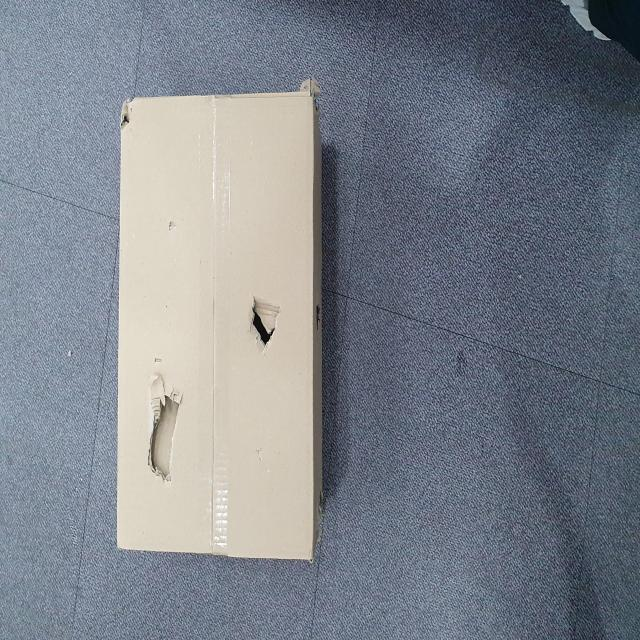damaged: (144, 373, 185, 489), (247, 286, 283, 358)
